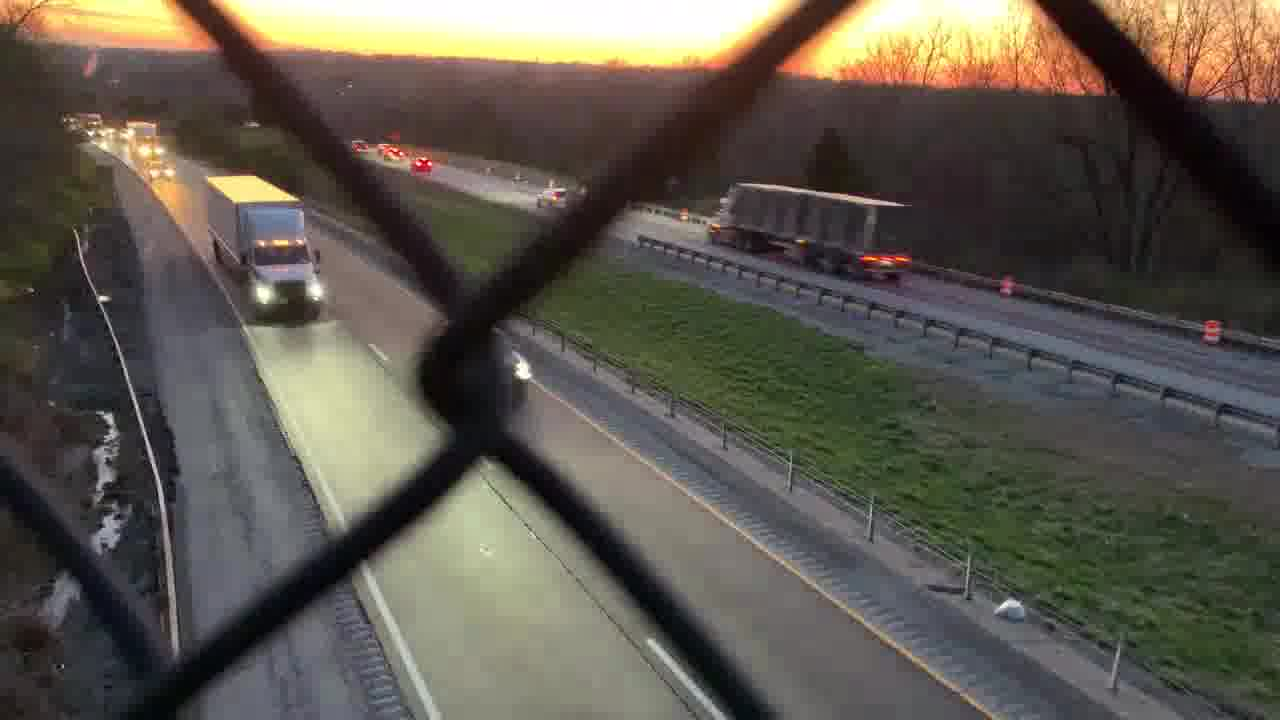heavyTruck: (711, 178, 914, 288), (199, 172, 331, 322)
